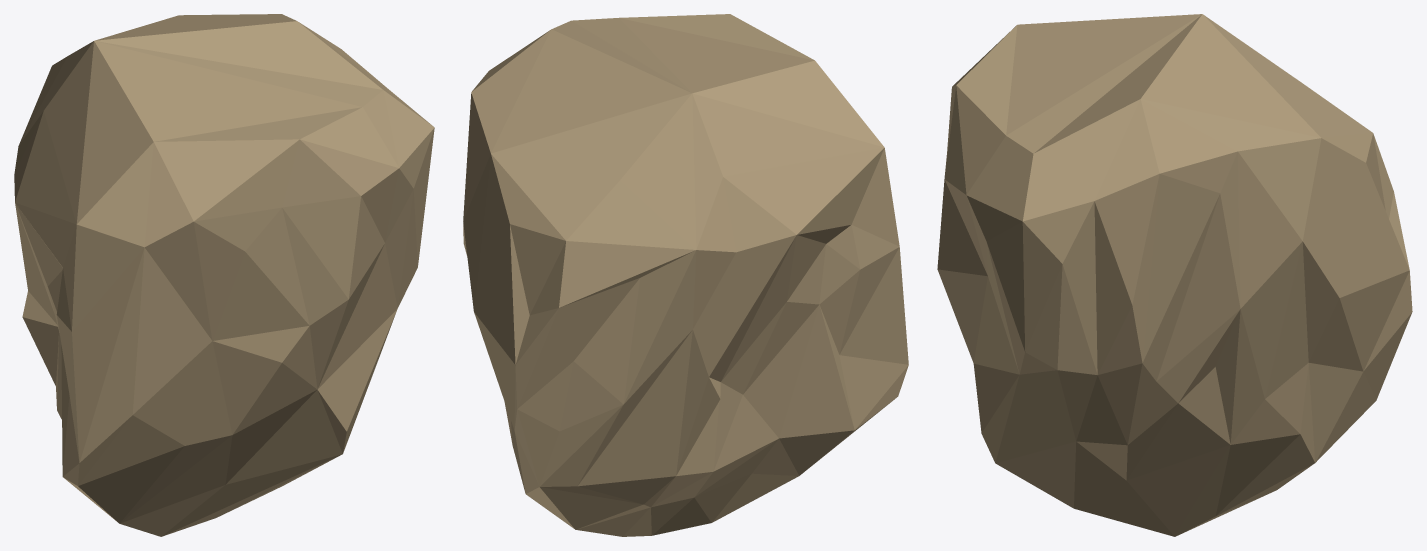
The model's file is Mountain_3.fbx.
3 renders of one model, left to right at view 1: azimuth 30°, elevation 25°; view 2: azimuth 150°, elevation 25°; view 3: azimuth 270°, elevation 25°, orthographic.
Visible parts, largest first — view 1: mountain3; view 2: mountain3; view 3: mountain3.
Boxes of the visible parts, box(x1,y1,x2,y2) form: mountain3: box(14, 14, 434, 536); mountain3: box(463, 14, 908, 536); mountain3: box(937, 14, 1412, 536).
Size of the model in its own units: 14.5 by 17.82 by 15.87.
